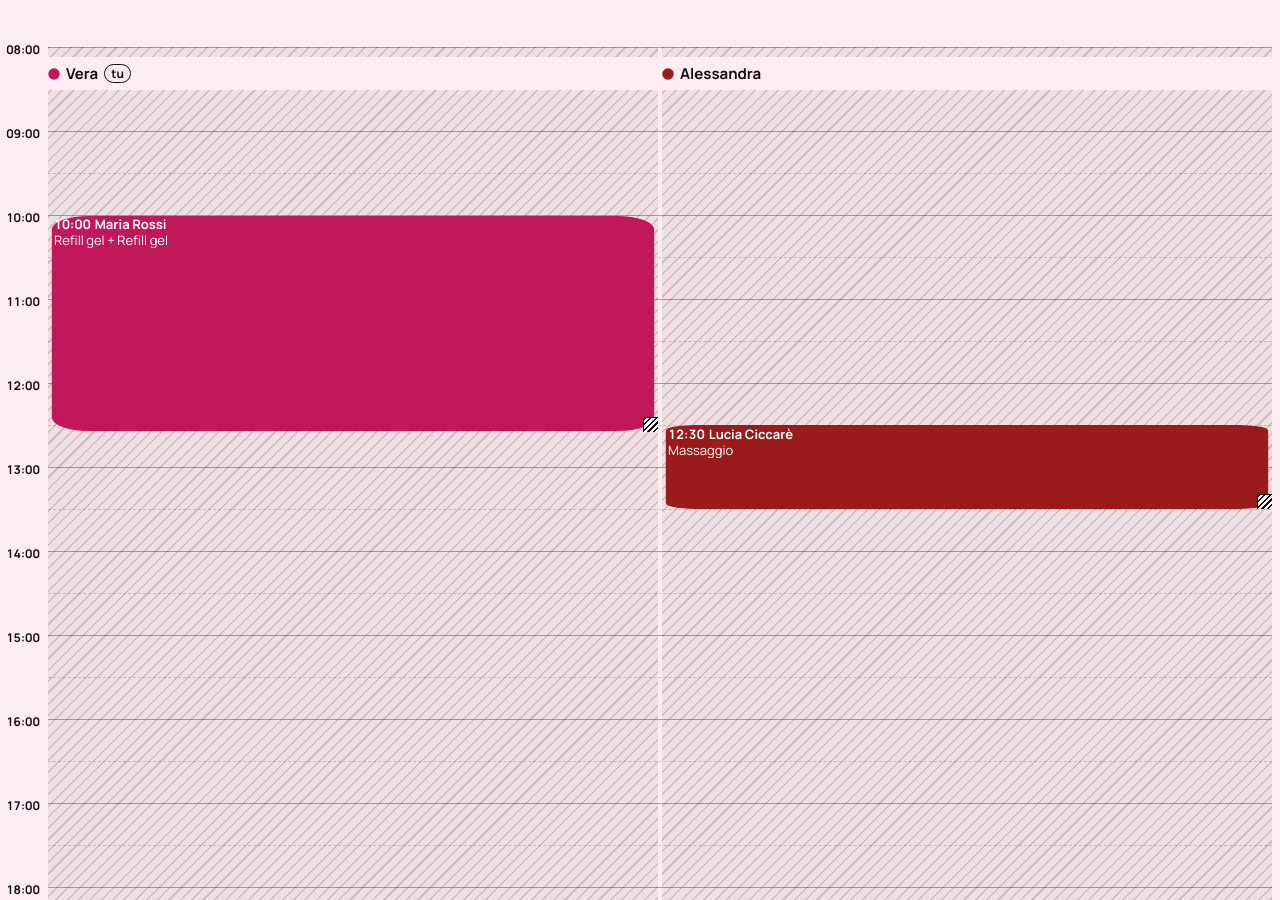
Test: «Annulla» › ✓: «✓ Riportata alle 10:00», senza un altro «Annulla»
Step 1. Press the mouse on the button "10:00 Maria Rossi Refill gel + Refill gel" → (353, 324), box [48,215,658,432]
Wait 400 ms
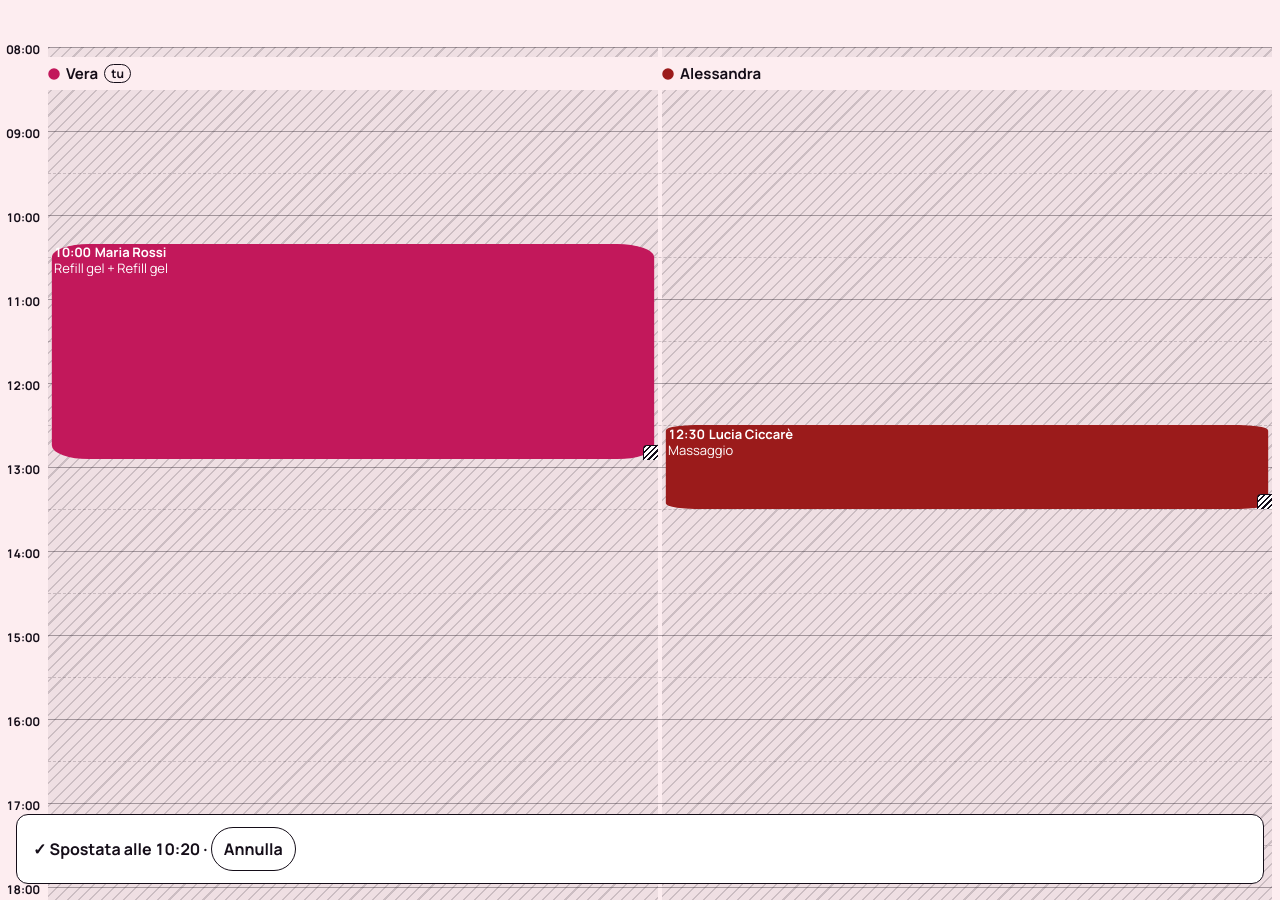
Step 2. Click the button "Annulla" → (253, 849), box [211,827,296,871]
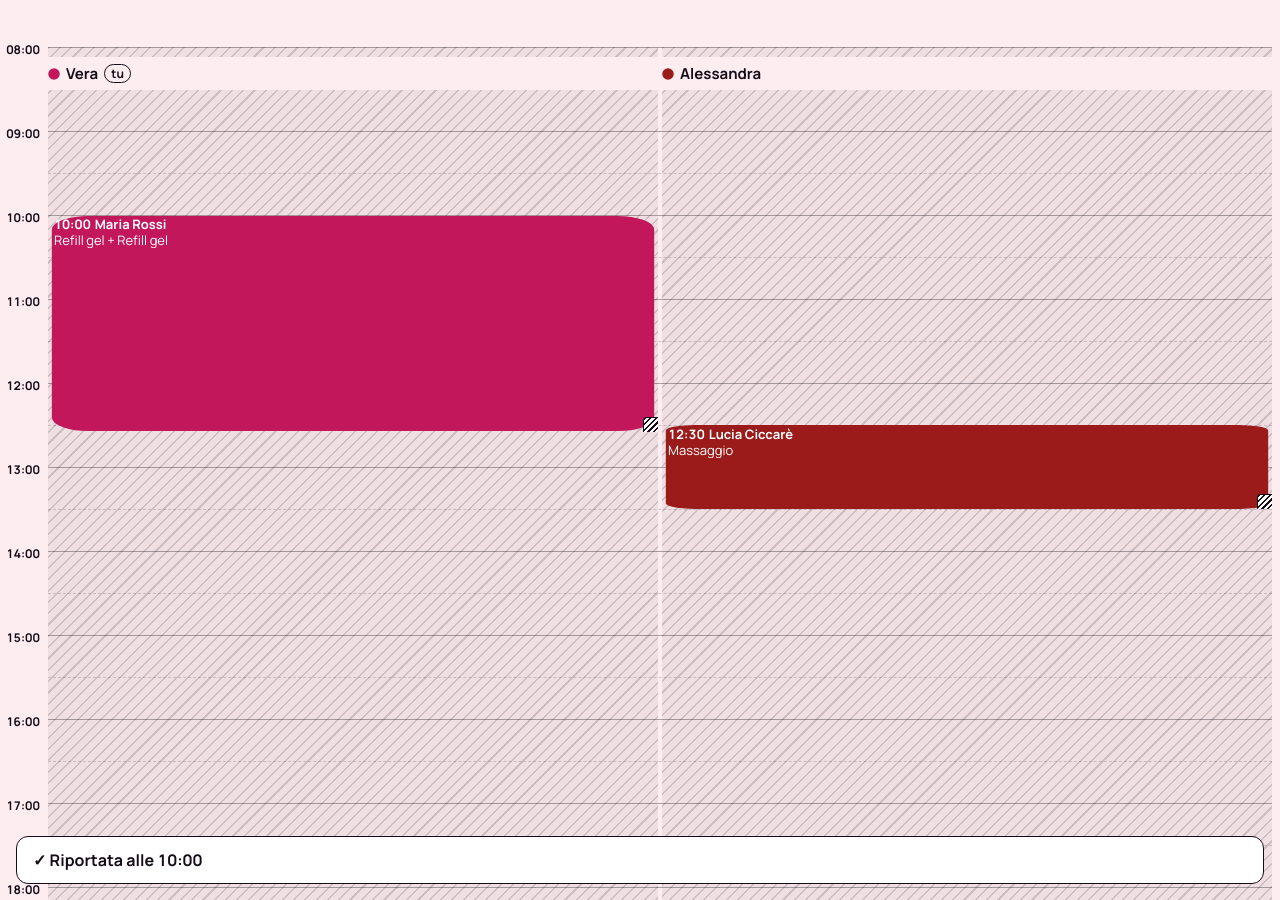
Check: the message reads "✓ Riportata alle 10:00", box [33,849,202,871]
Check: the button "Annulla" is gone
